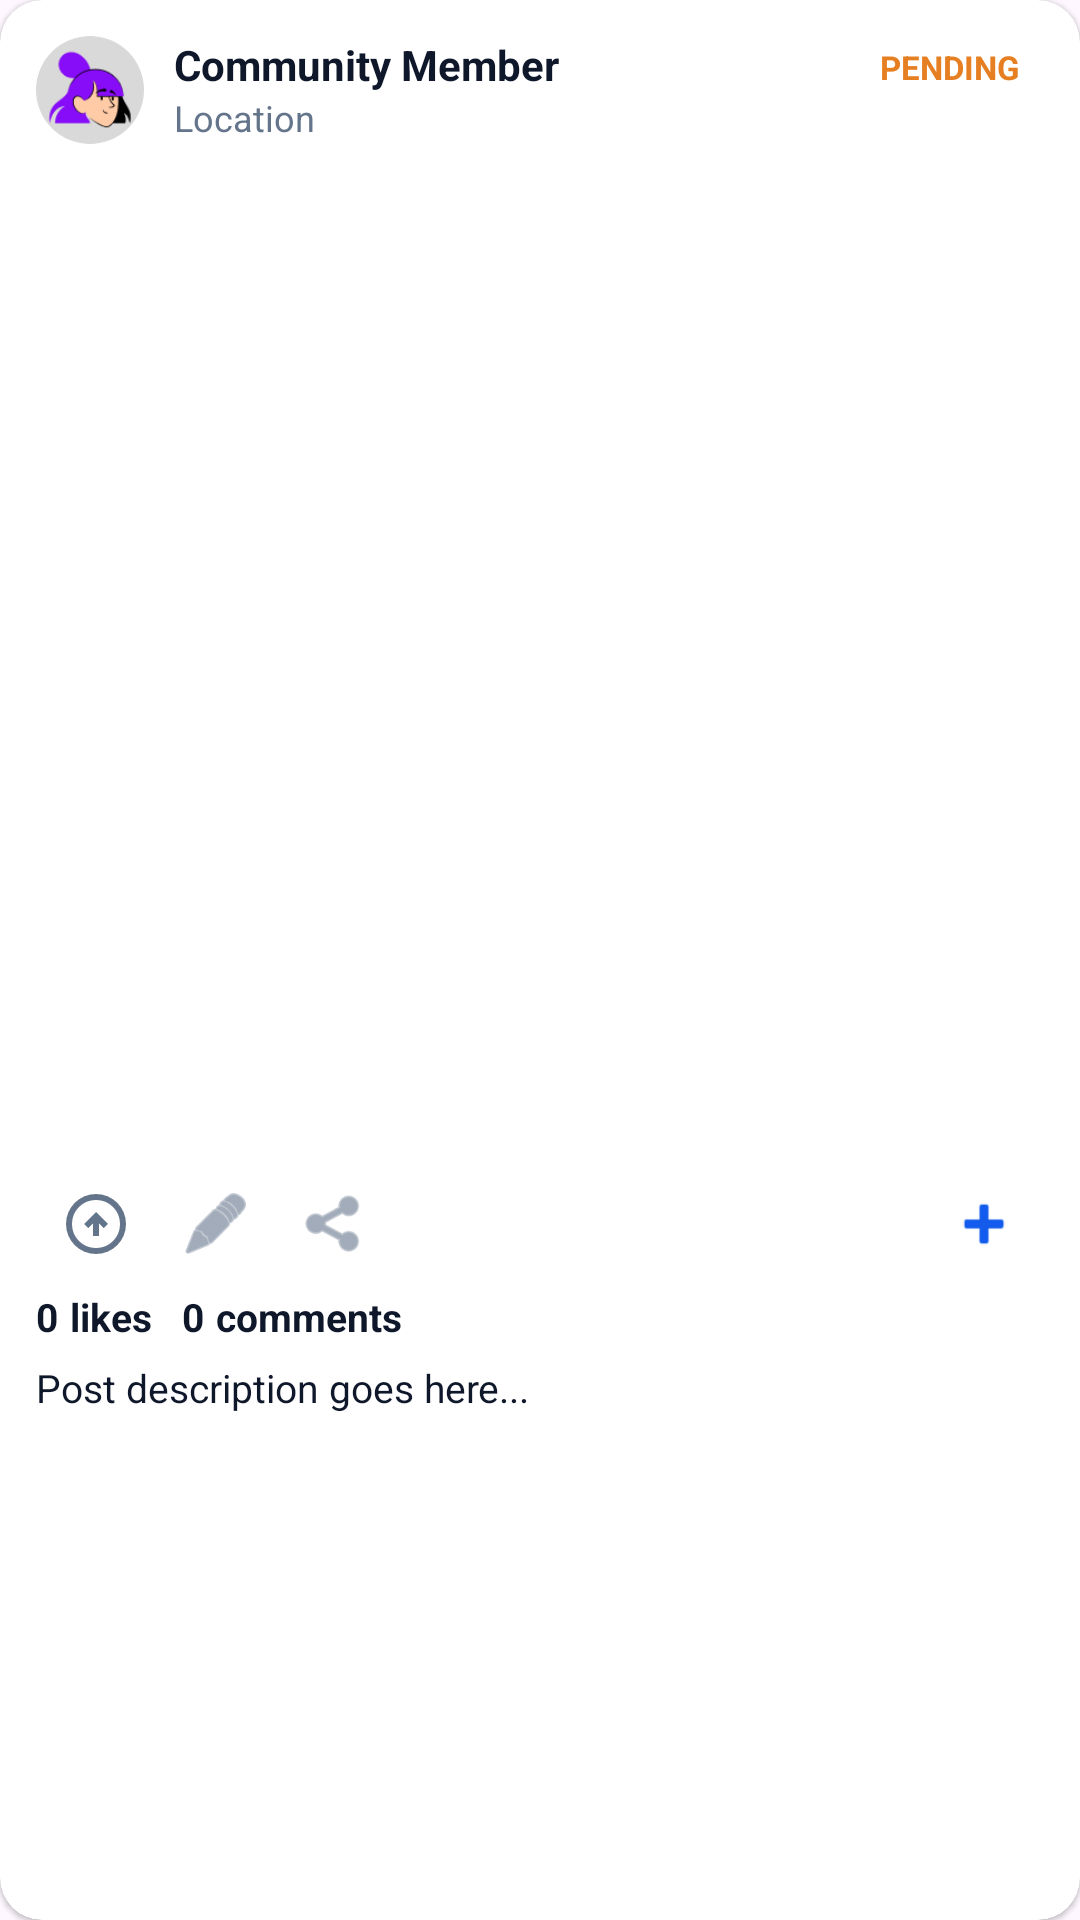

Icons on this 1080×1920 Android screen, each with its box as (x1, y1, x2, y2):
profile: (36, 36, 144, 144)
Share: (305, 1196, 359, 1252)
